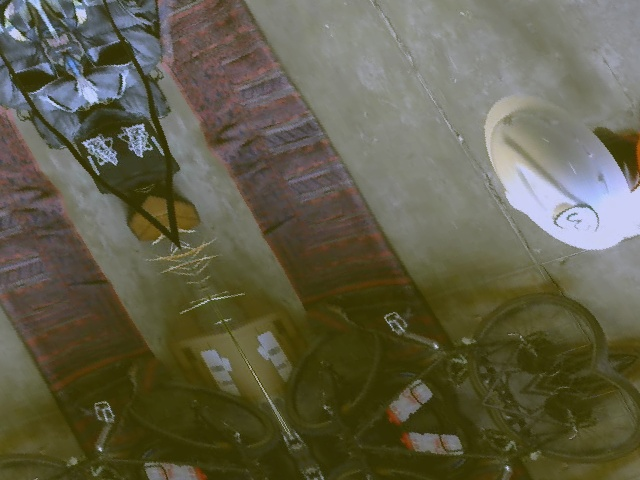three: (549, 201, 606, 243)
